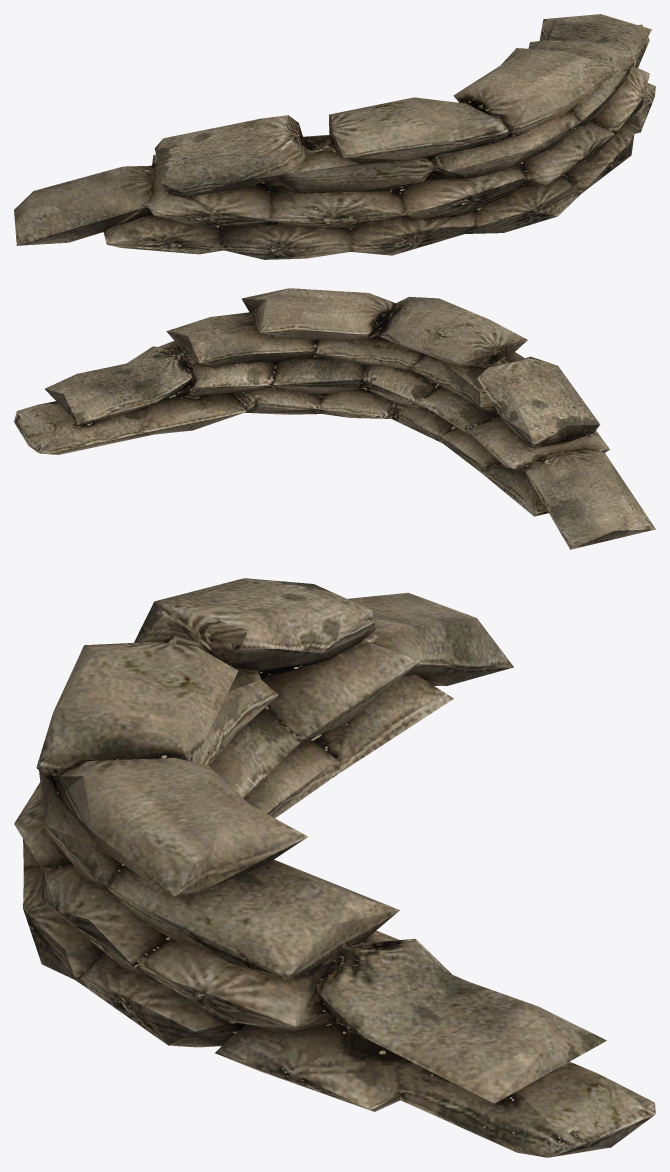
File: sand3.dae
The picture shows the model from 3 angles, top to bottom: view 1: azimuth 30°, elevation 25°; view 2: azimuth 150°, elevation 25°; view 3: azimuth 270°, elevation 25°; orthographic projection. The views are drawn at different scales.
Parts seen in each view (by area): view 1: sand3; view 2: sand3; view 3: sand3.
Part boxes in pixels (x1,y1,x2,y2): sand3: (14,14,655,259); sand3: (14,288,655,549); sand3: (14,578,655,1157).
Size of the model in its own units: 6.28 by 1.09 by 3.13.
1 material, 1 textured.
